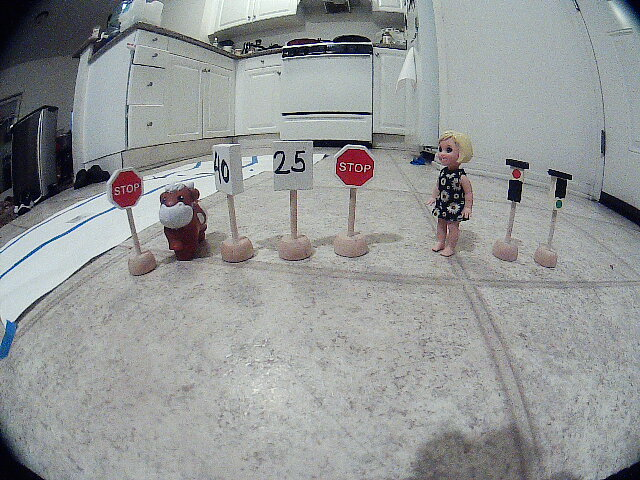Cow: (157, 180, 215, 266), (104, 166, 155, 219)
Green Traffic Light: (543, 162, 589, 224)
Person: (416, 113, 483, 273)
Red Traffic Light: (492, 134, 538, 214)
Speed Limit 25: (266, 139, 325, 202)
Speed Limit 40: (201, 146, 260, 191)
Stop Sign: (332, 137, 387, 193)
